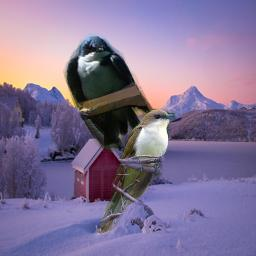Cuckoo: (95, 107, 175, 236)
Swallow: (63, 33, 167, 157)
